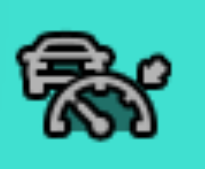ACC_AKTIV: (12, 24, 180, 144)
